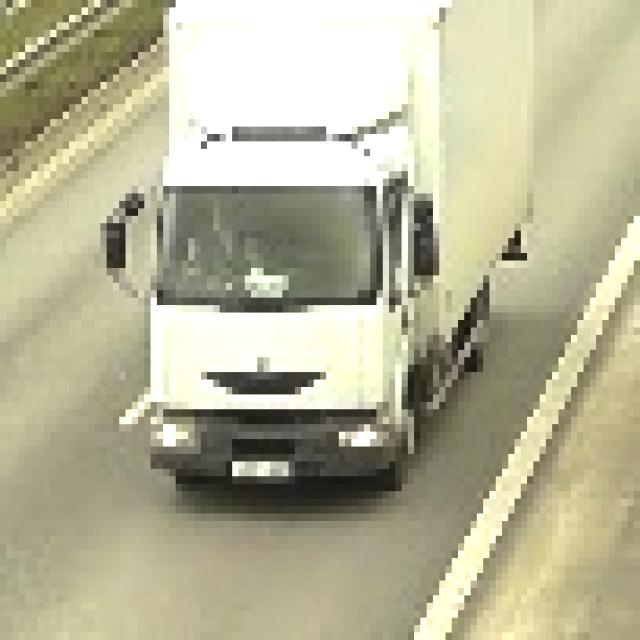truck: (101, 1, 528, 507)
